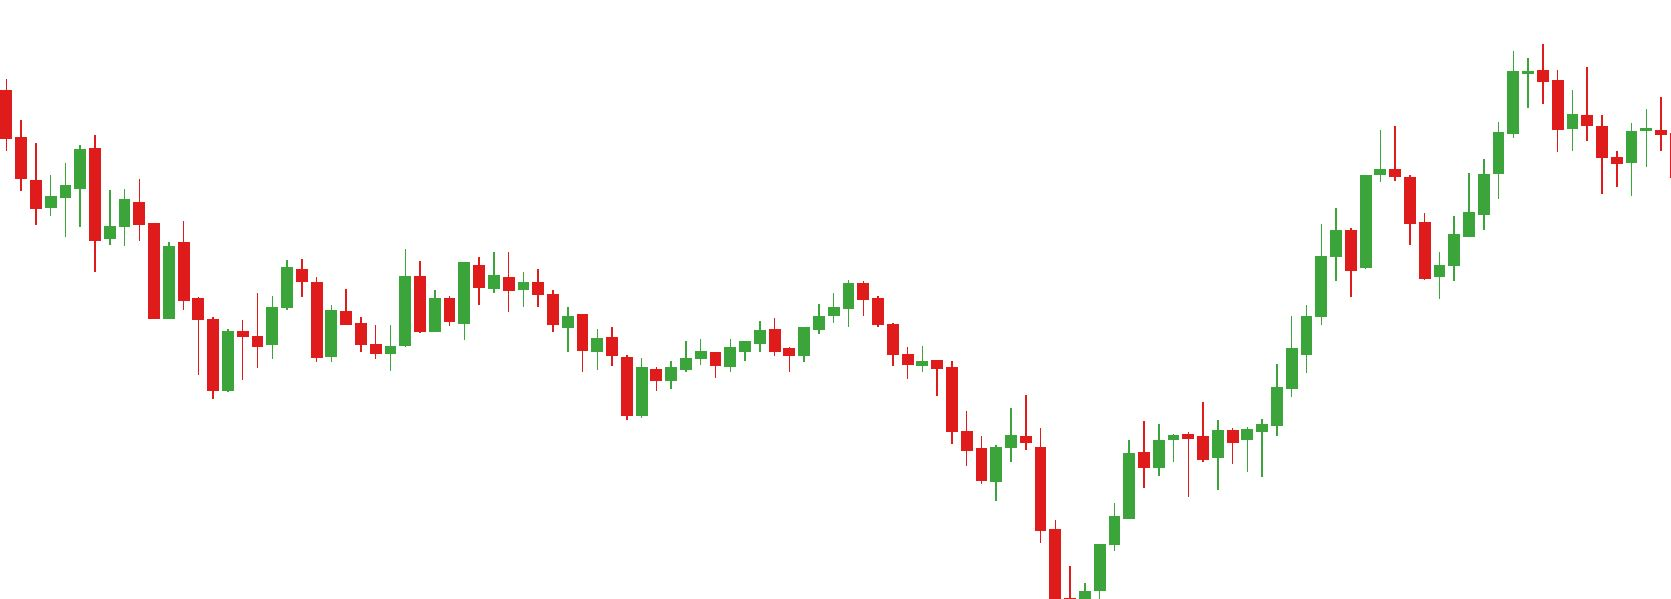buy: (1343, 195, 1444, 307)
sell: (280, 252, 429, 323)
